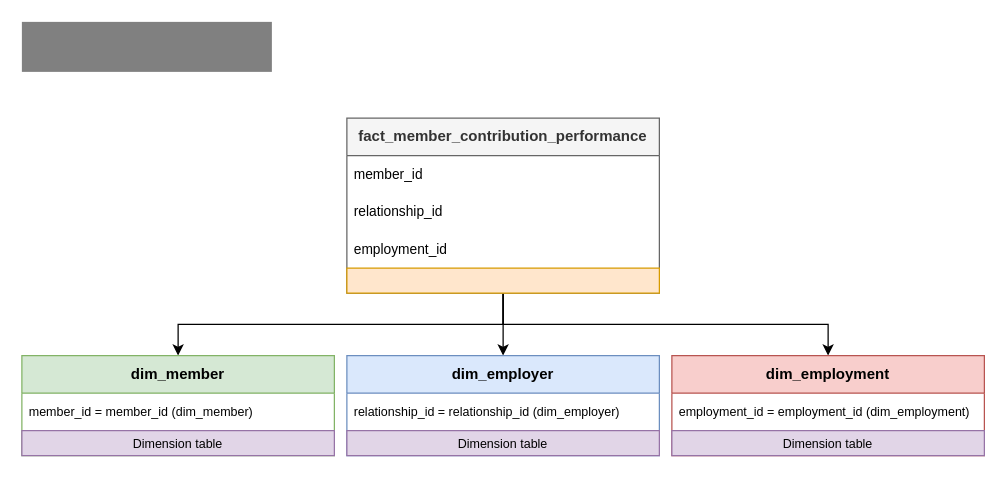
The diagram is 1006 pixels wide and 478 high, and some of its shapes have lost their labels. Here are the shapes that lost their labels. From the top down, the centre of each, then its label:
(x=146, y=46): Tableau Data Model
(x=502, y=280): Fact table
